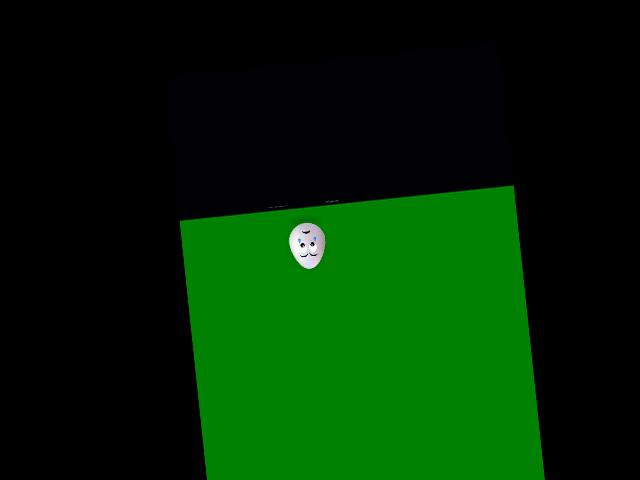egg: (287, 221, 328, 270)
